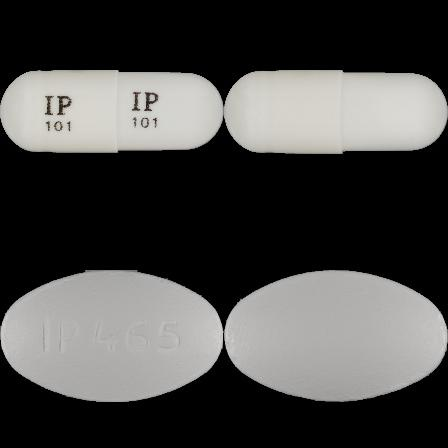42549-512: (0, 0, 224, 224)
